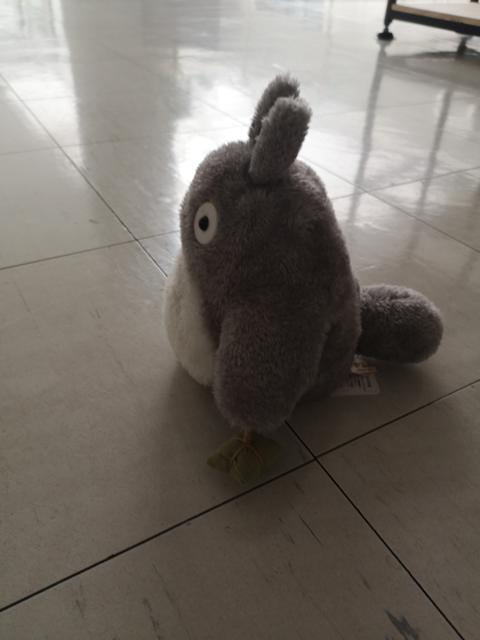totoro: (160, 68, 448, 499)
